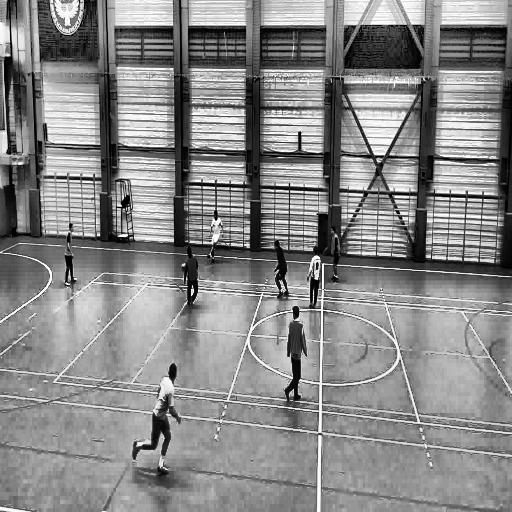ball: (180, 261, 186, 274)
player: (131, 362, 182, 477), (284, 304, 308, 404), (205, 207, 225, 265), (183, 244, 200, 310), (62, 220, 78, 290), (272, 239, 290, 301), (307, 245, 322, 310), (330, 224, 342, 286)
